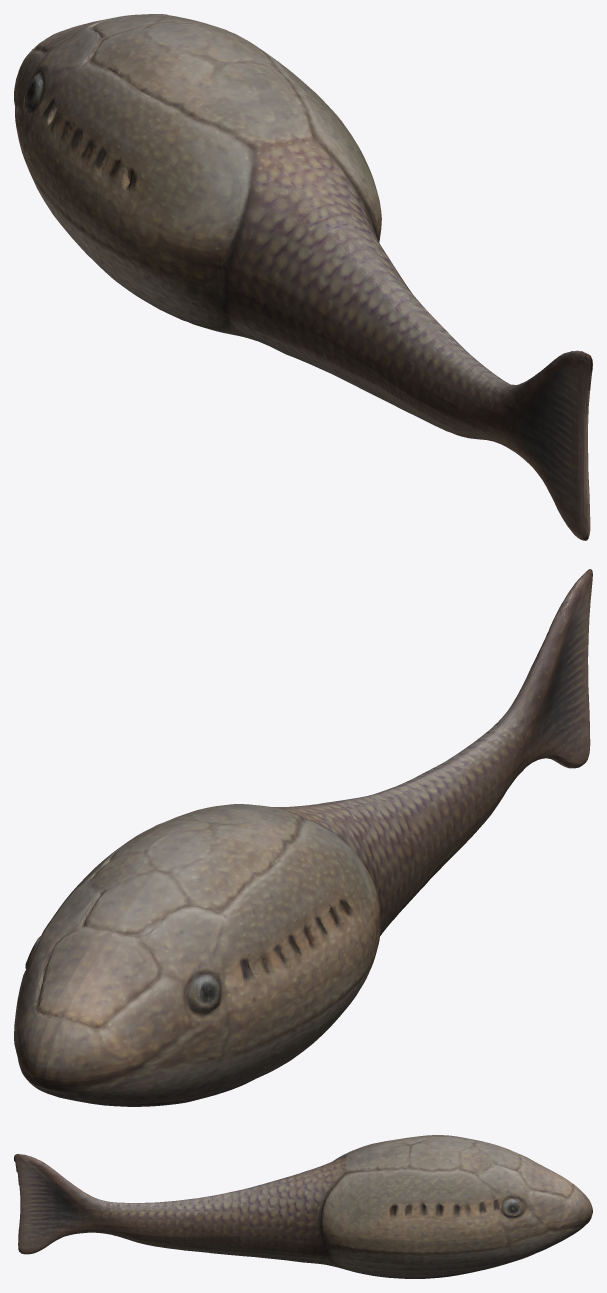
3 views of the same model, one above another, from view 1: azimuth 30°, elevation 25°; view 2: azimuth 150°, elevation 25°; view 3: azimuth 270°, elevation 25° (orthographic). The views are drawn at different scales.
Visible parts, largest first — view 1: world; view 2: world; view 3: world.
Boxes of the visible parts, <box> form: world: <box>14,14,592,540</box>; world: <box>14,569,592,1106</box>; world: <box>14,1135,592,1278</box>.
Bounding box in the file's own units: 0.2636 × 0.2417 × 0.9946.
Materials: 1 (1 with a texture image).
